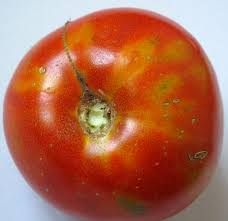tomato: (2, 8, 222, 220)
